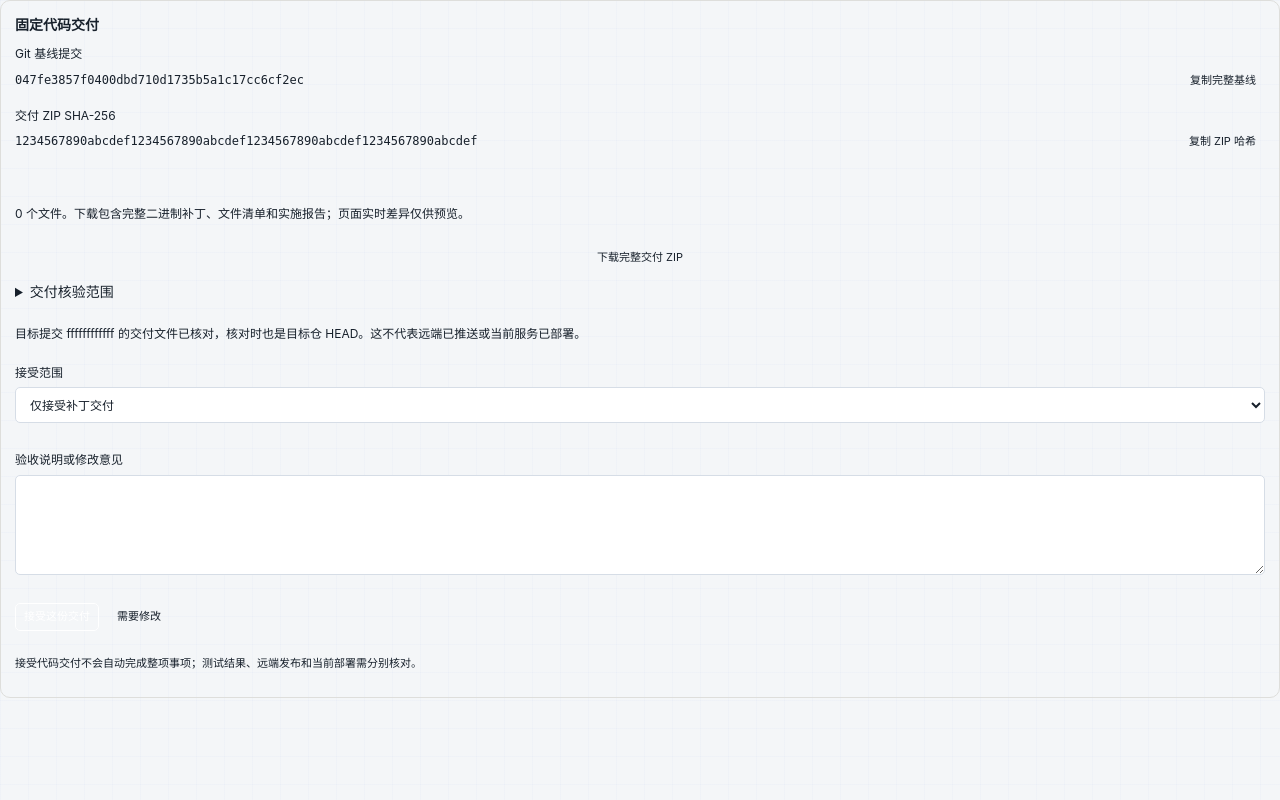
Test: reports browser rejection, retains the full value and permits retry
Click the button "复制 ZIP 哈希".
click(1222, 142)  # box x1=1180 y1=128 x2=1265 y2=156
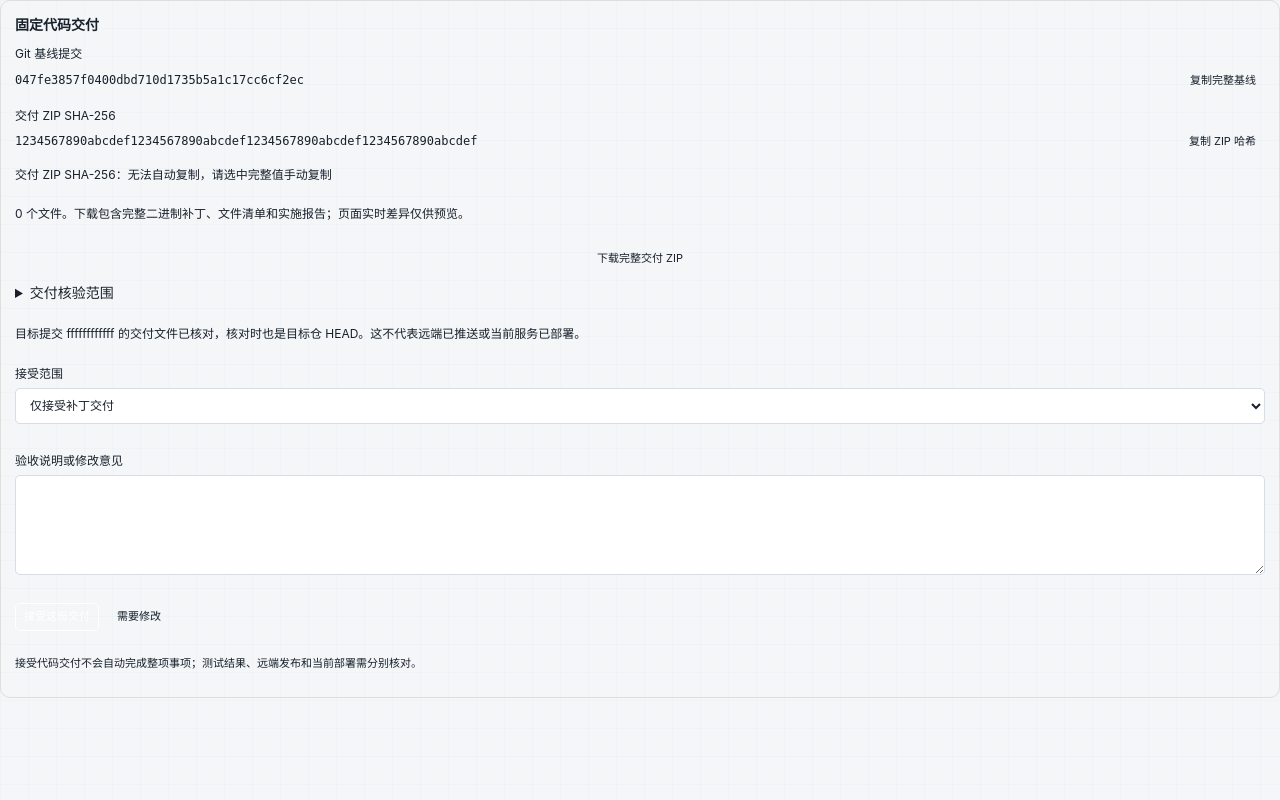
Check: the message "交付 ZIP SHA-256：无法自动复制，请选中完整值手动复制" is shown, box x1=15 y1=167 x2=332 y2=182
Click the button "复制 ZIP 哈希".
click(1222, 142)  # box x1=1180 y1=128 x2=1265 y2=156
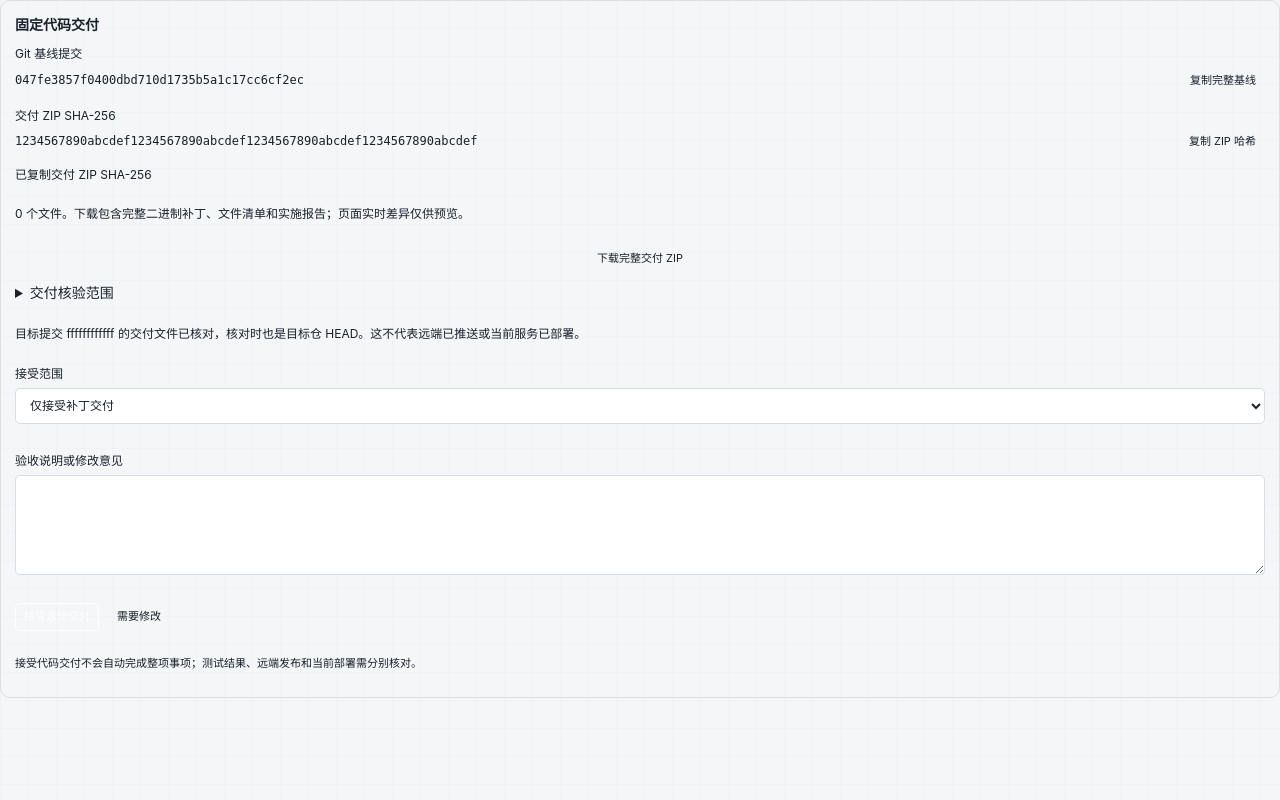
Check: the message "已复制交付 ZIP SHA-256" is shown, box x1=15 y1=167 x2=152 y2=182
